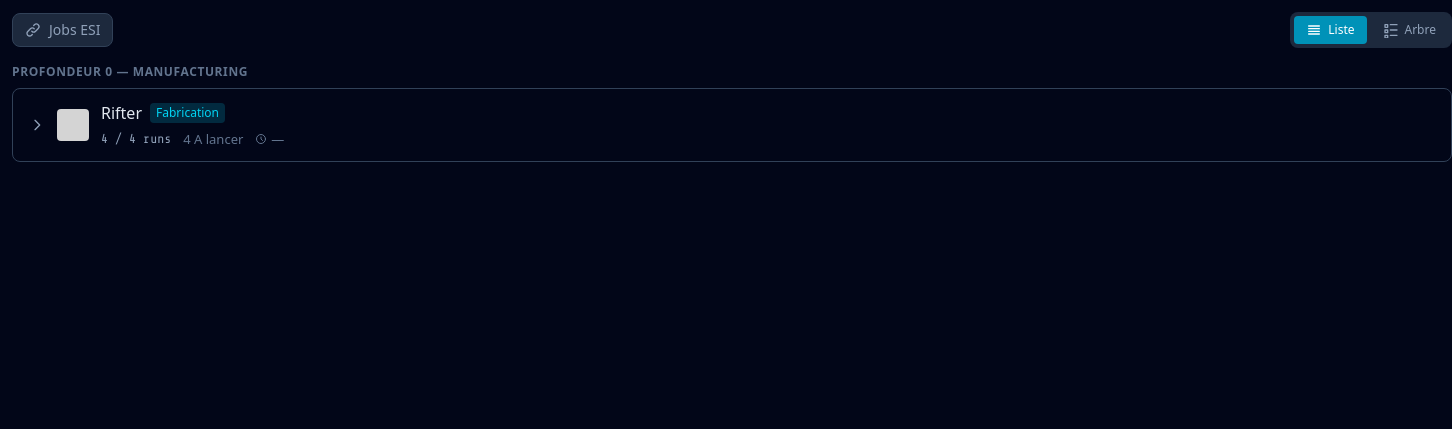
Test case: StepsTab job sync failures › names two failed characters with the french plural title
The width and height of the screenshot is (1452, 429).
Click the button "Jobs ESI": point(63, 30) [12,13,114,47]
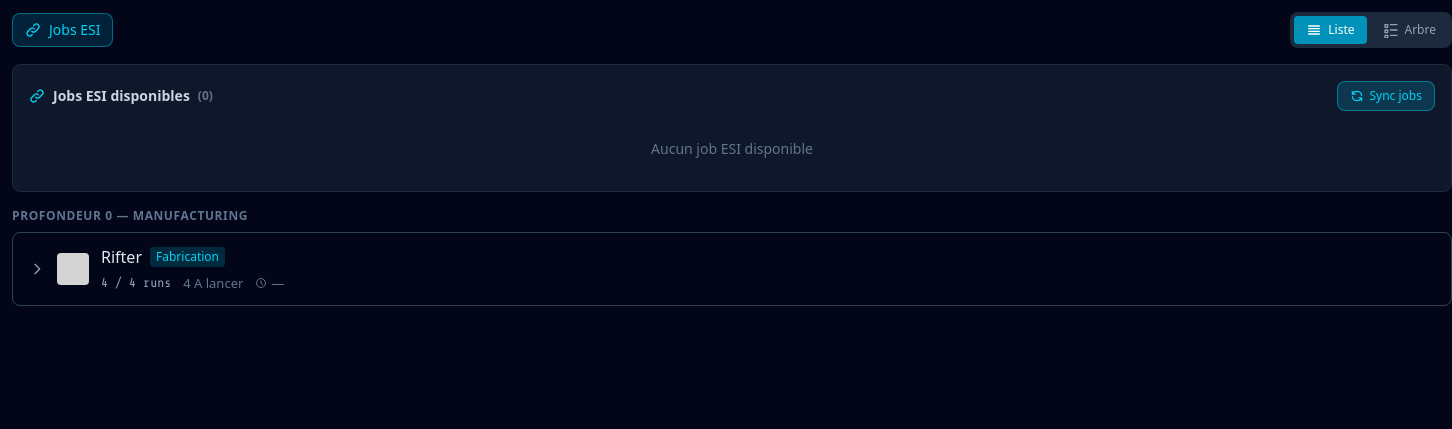
Click the button "Sync jobs": point(1386, 96) [1336,81,1435,111]
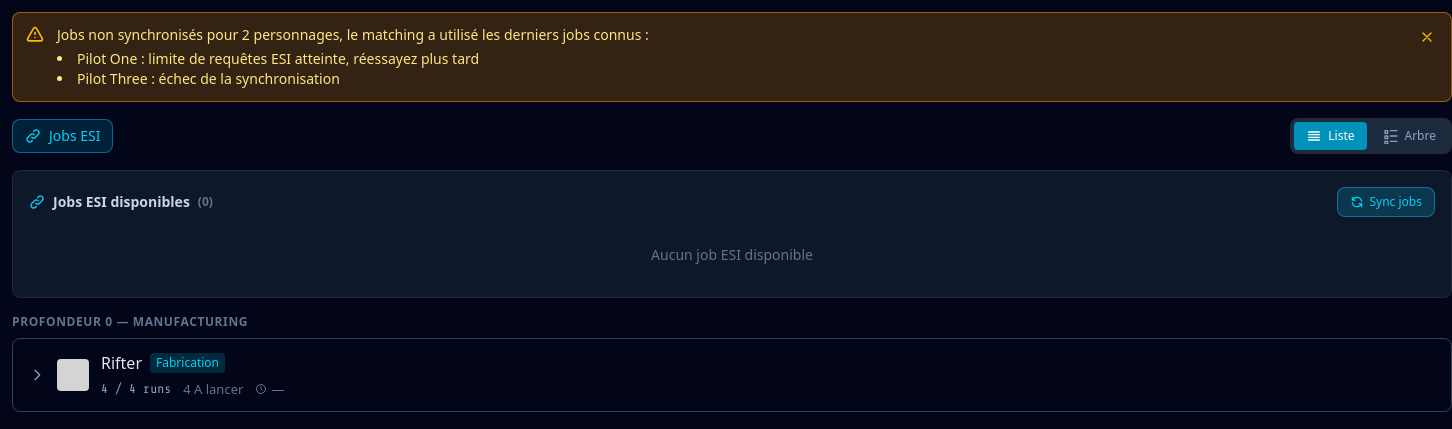
Check: the element with test id "jobs-sync-failures" shows "Jobs non synchronisés pour 2 personnages, le matching a utilisé les derniers jobs connus :", box [57,25,649,44]
